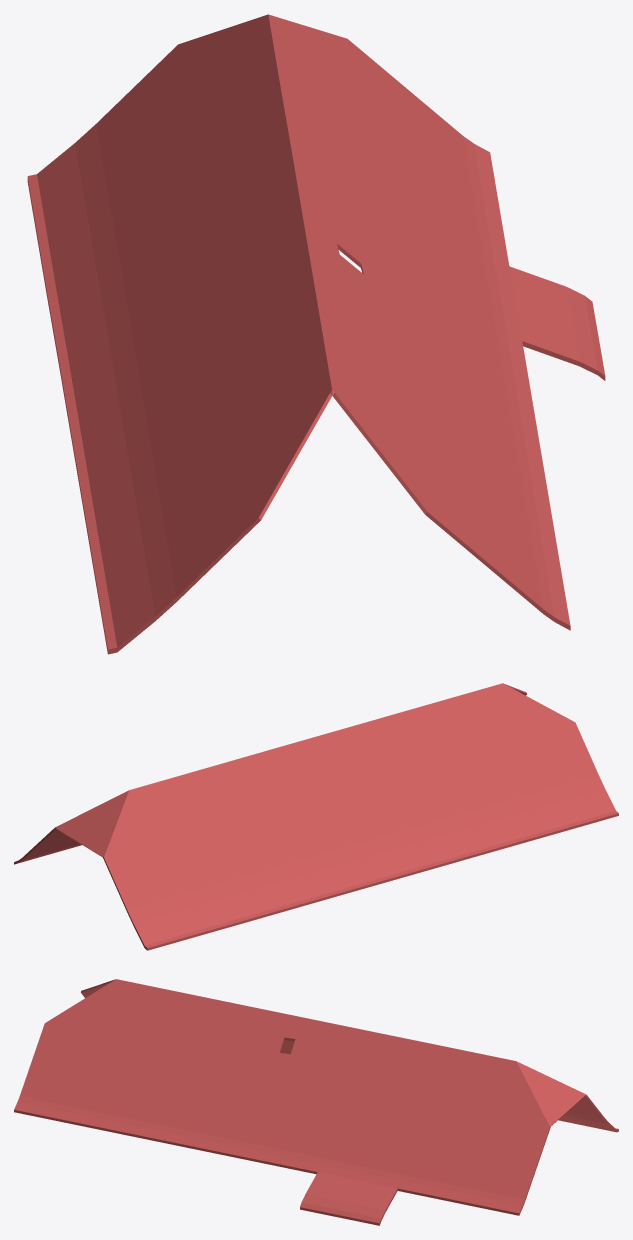
File: krytiny.dae
3 views of the same model, one above another, from view 1: azimuth 30°, elevation 25°; view 2: azimuth 150°, elevation 25°; view 3: azimuth 270°, elevation 25° (orthographic). The views are drawn at different scales.
Parts seen in each view (by area): view 1: SketchUp; view 2: SketchUp; view 3: SketchUp.
Boxes of the visible parts, x1=… form: SketchUp: x1=27, y1=14, x2=605, y2=654; SketchUp: x1=14, y1=683, x2=618, y2=950; SketchUp: x1=14, y1=979, x2=618, y2=1225.
Size of the model in its own units: 663 by 882 by 191.
